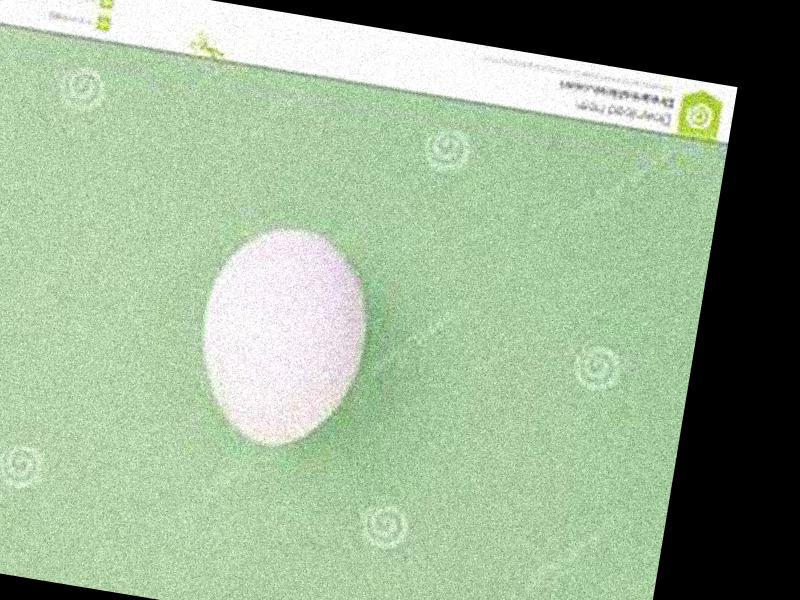Eggs: (189, 218, 382, 455)
